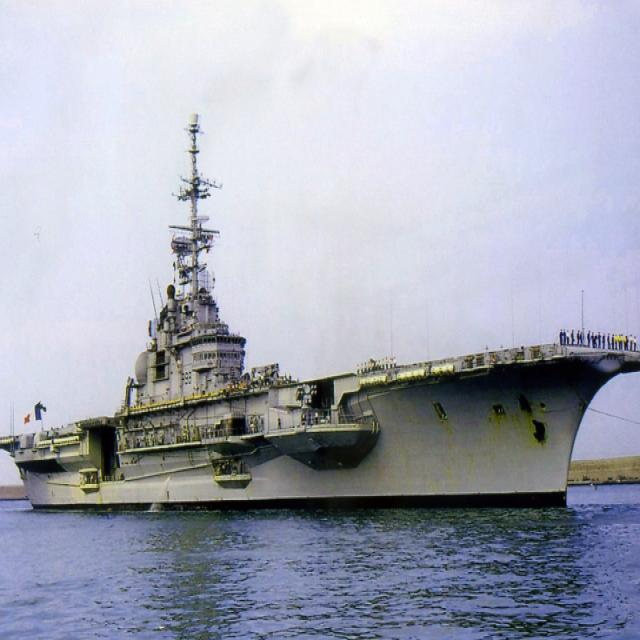Portanaves: (1, 112, 640, 517)
